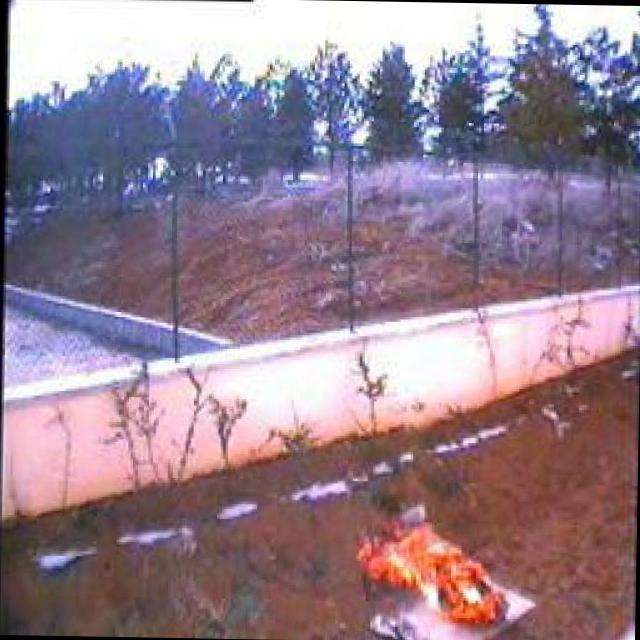Fire: (352, 511, 518, 634)
